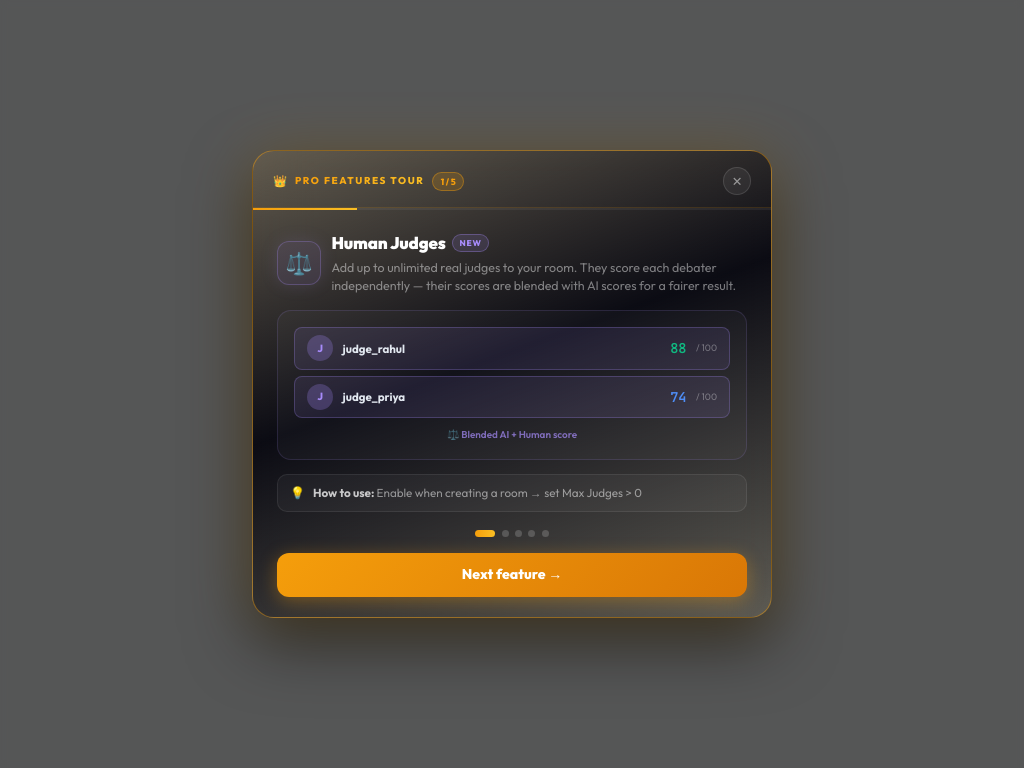
Scenario: ProWelcomeModal — dot indicator navigation › clicking the last dot jumps to slide 5 and shows the CTA
Click the 6th button at [545, 534], box [542, 530, 549, 537]
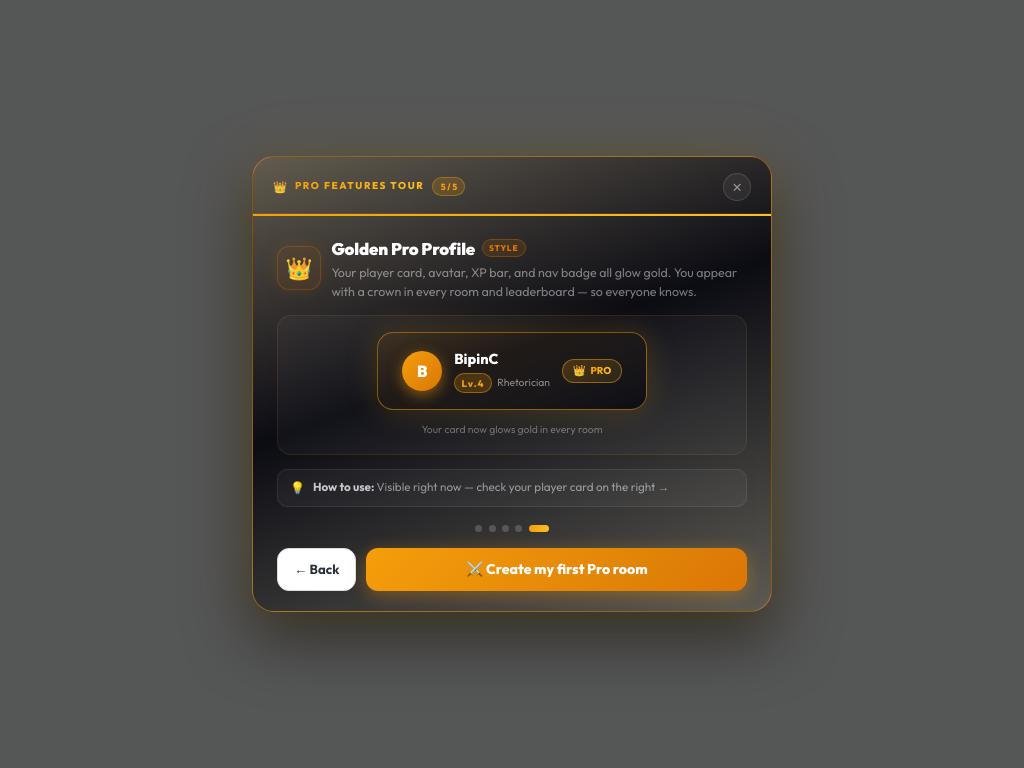
Check: the button "⚔️ Create my first Pro room" is shown, box [366, 548, 747, 592]
